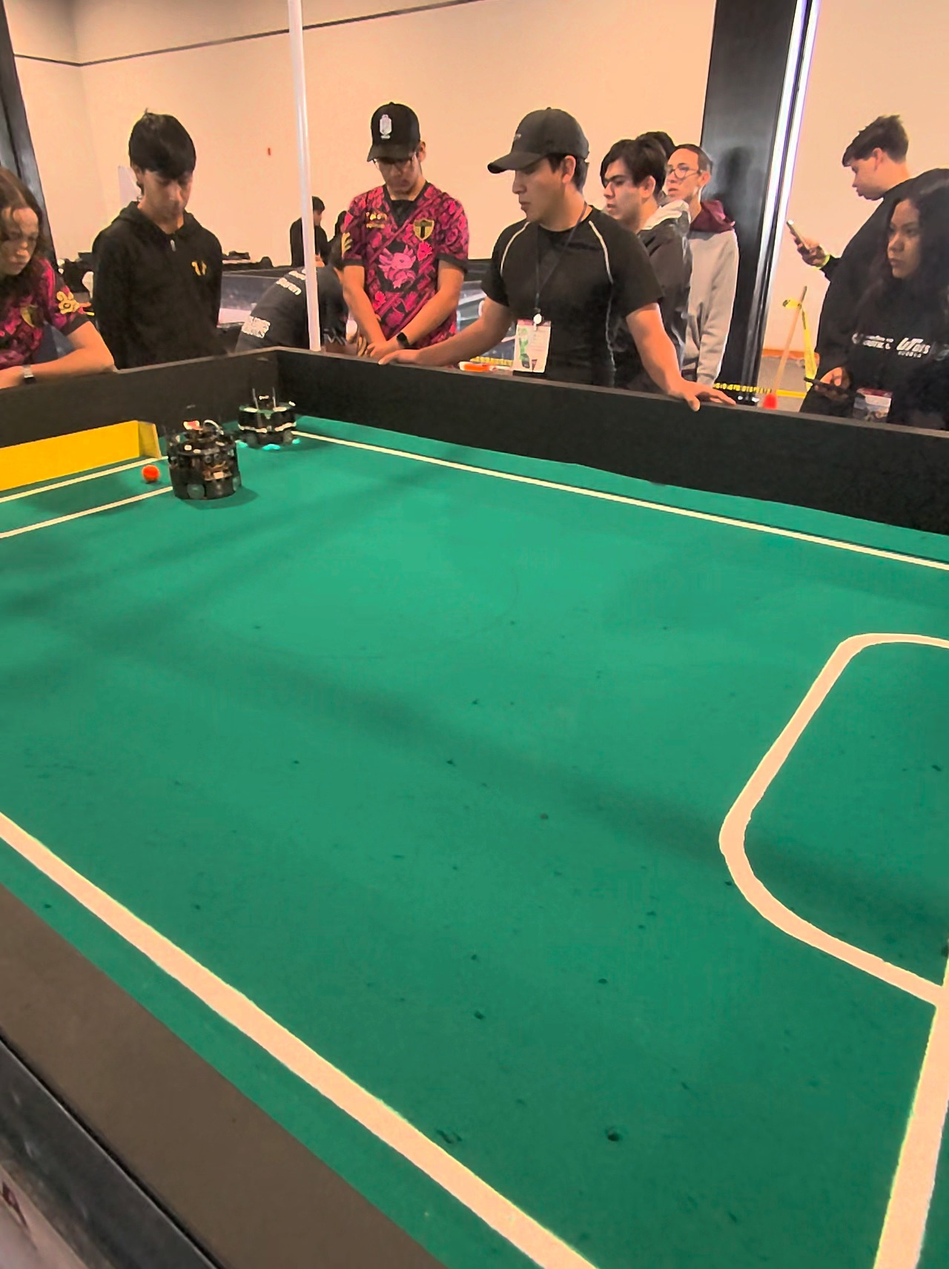Robot: (160, 396, 235, 505), (241, 352, 307, 459)
pelota: (145, 463, 160, 481)
